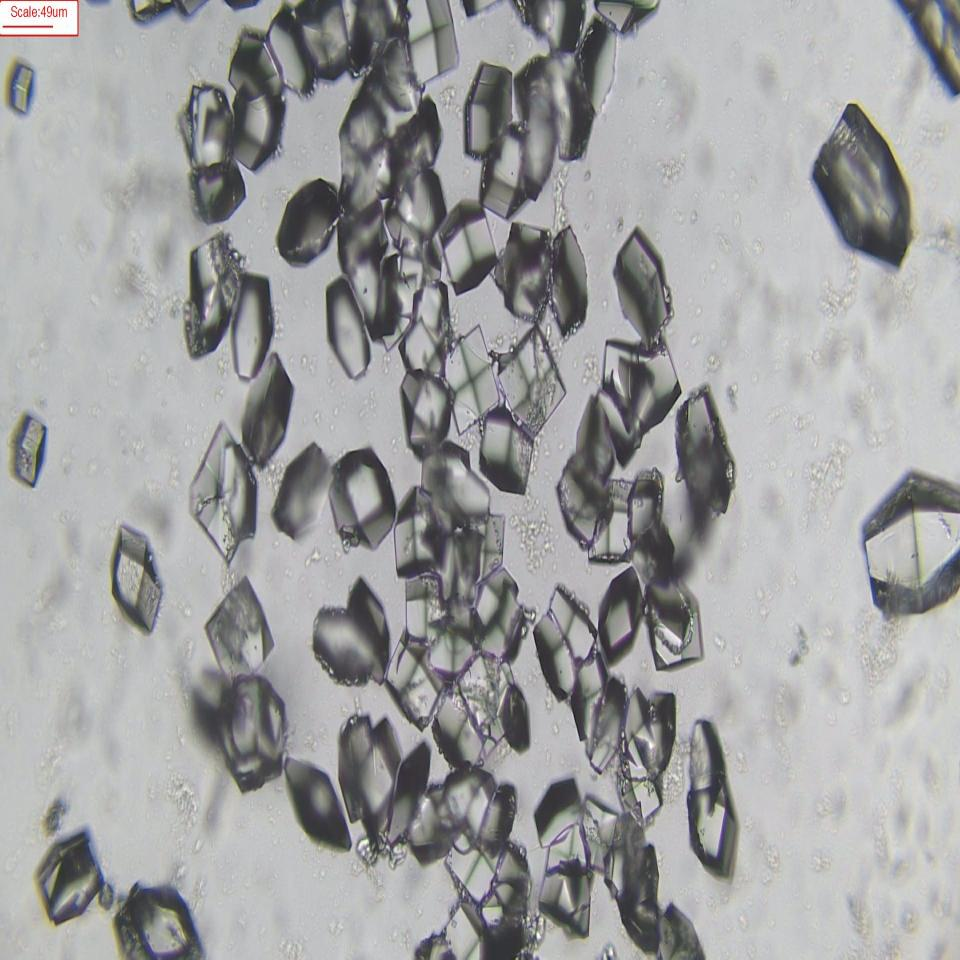crystal: (805, 105, 920, 267), (861, 467, 960, 622), (184, 425, 259, 560), (284, 751, 354, 864), (329, 446, 399, 553), (441, 326, 503, 431), (275, 178, 343, 273), (206, 582, 273, 678), (319, 268, 371, 390), (110, 523, 164, 634), (398, 0, 462, 90), (273, 444, 336, 534), (184, 231, 236, 340), (310, 603, 375, 690), (238, 350, 287, 465), (37, 831, 104, 914), (615, 234, 669, 336), (442, 196, 500, 288), (598, 564, 642, 665), (232, 270, 271, 372), (10, 406, 50, 491), (5, 60, 37, 114)
not_crystal: (561, 456, 676, 560), (332, 723, 428, 826), (686, 717, 744, 881), (604, 340, 682, 449), (542, 587, 594, 710), (408, 582, 467, 672)
